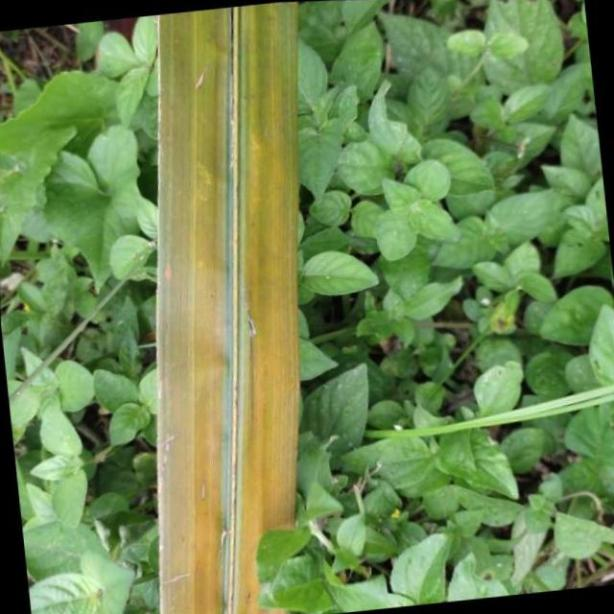Megnesium: (156, 0, 300, 614)
